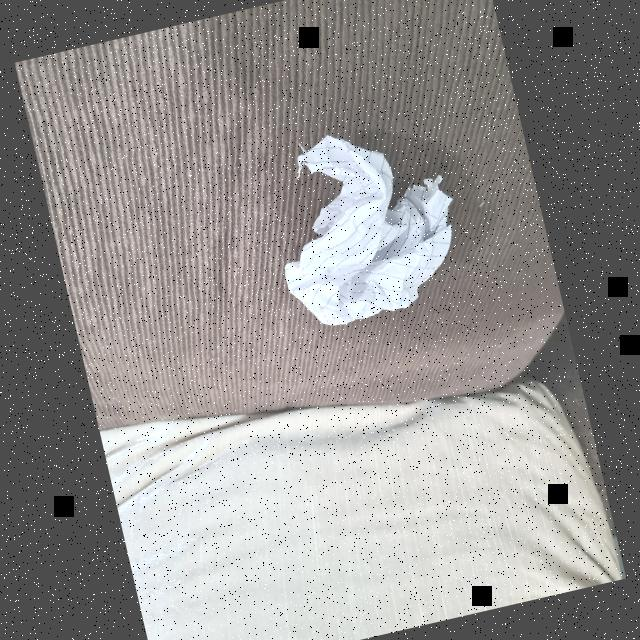scrap_paper: (256, 110, 478, 340)
